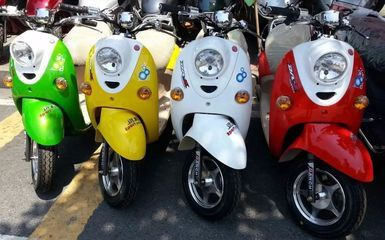non-vehicle: (250, 8, 376, 234), (167, 8, 254, 222), (6, 4, 98, 196), (89, 3, 173, 206)
